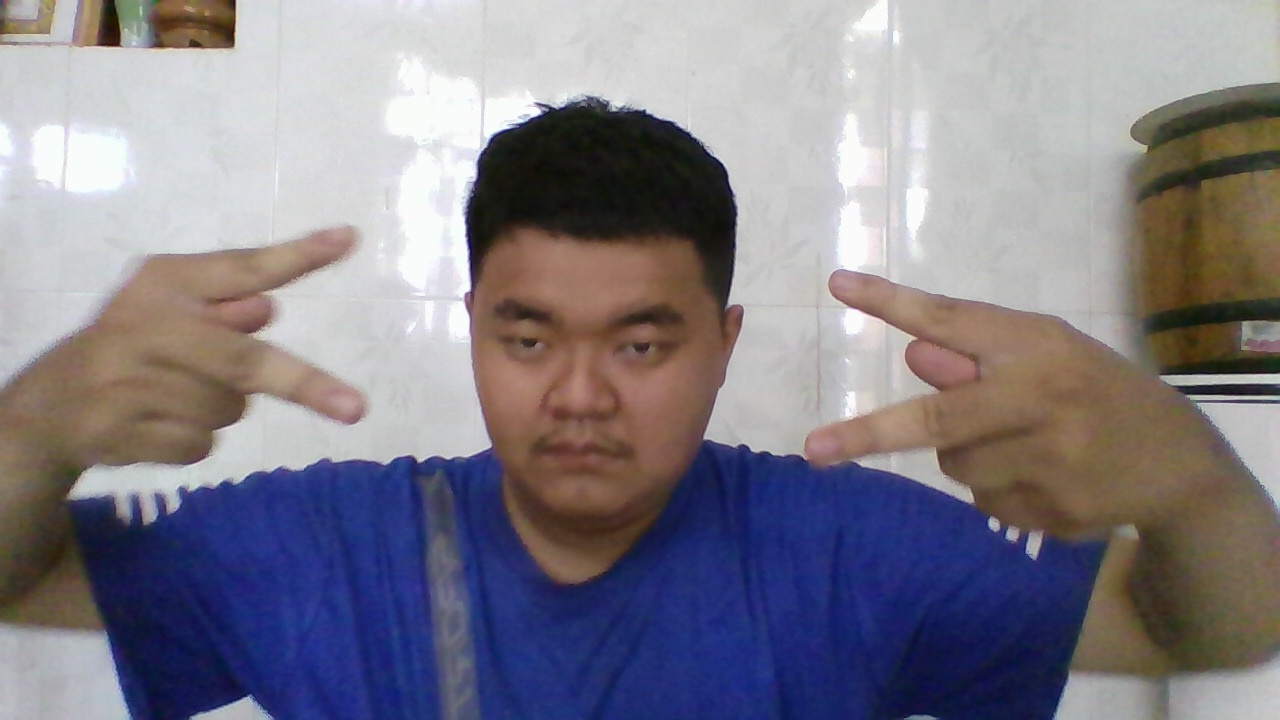K: (796, 264, 1210, 520), (19, 225, 365, 464)
